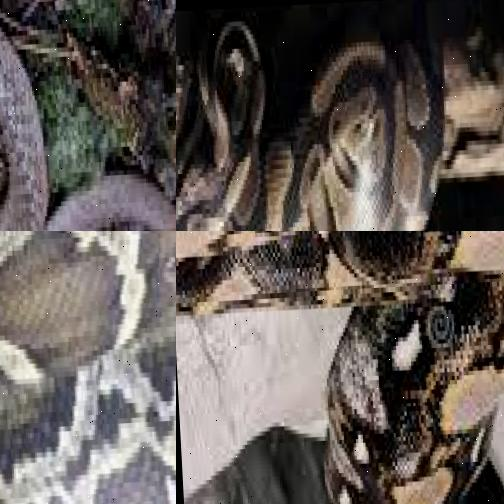snake: (176, 231, 504, 504), (176, 0, 504, 231), (0, 231, 176, 504), (0, 0, 176, 231)
